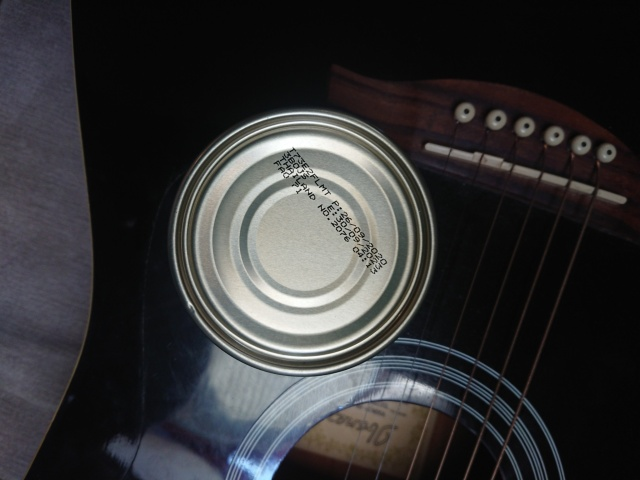Giana Tuna Salad Mexico 185g: (165, 100, 441, 378)
